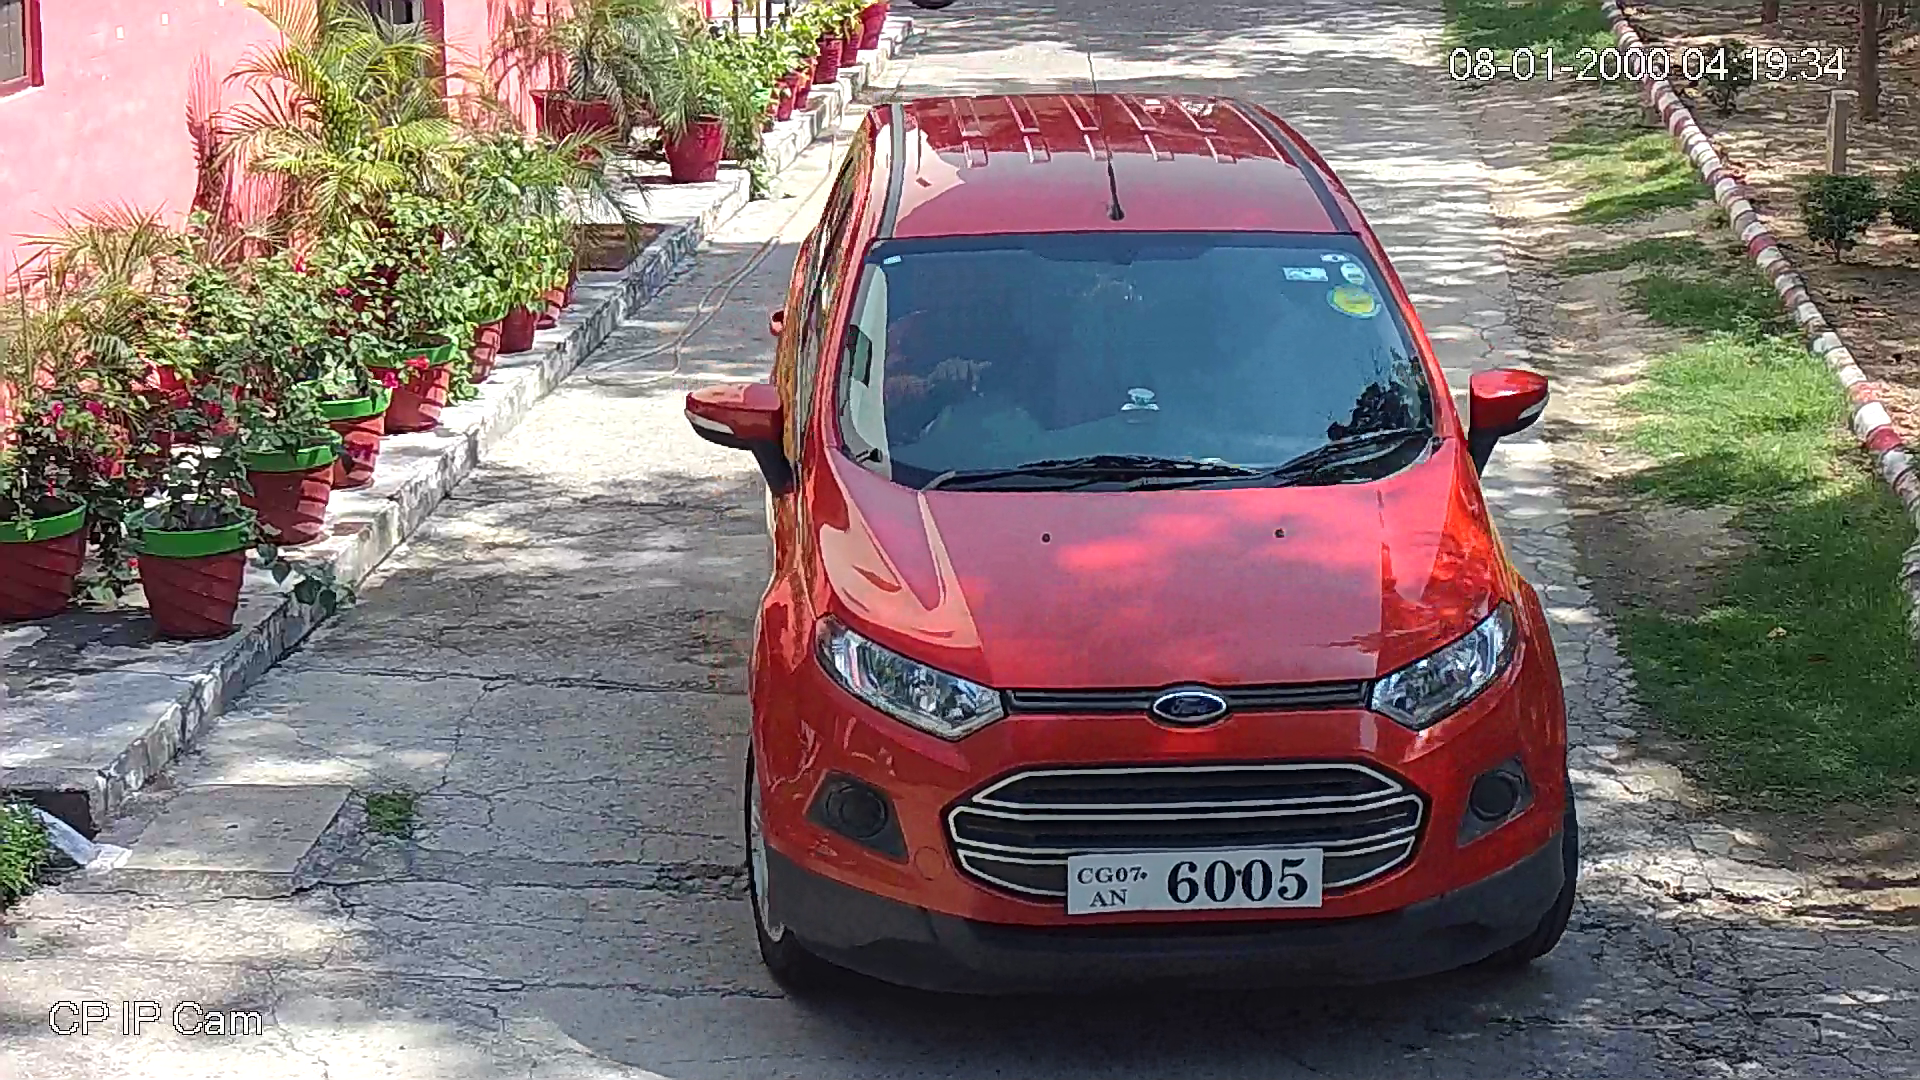plate: (1060, 837, 1331, 920)
